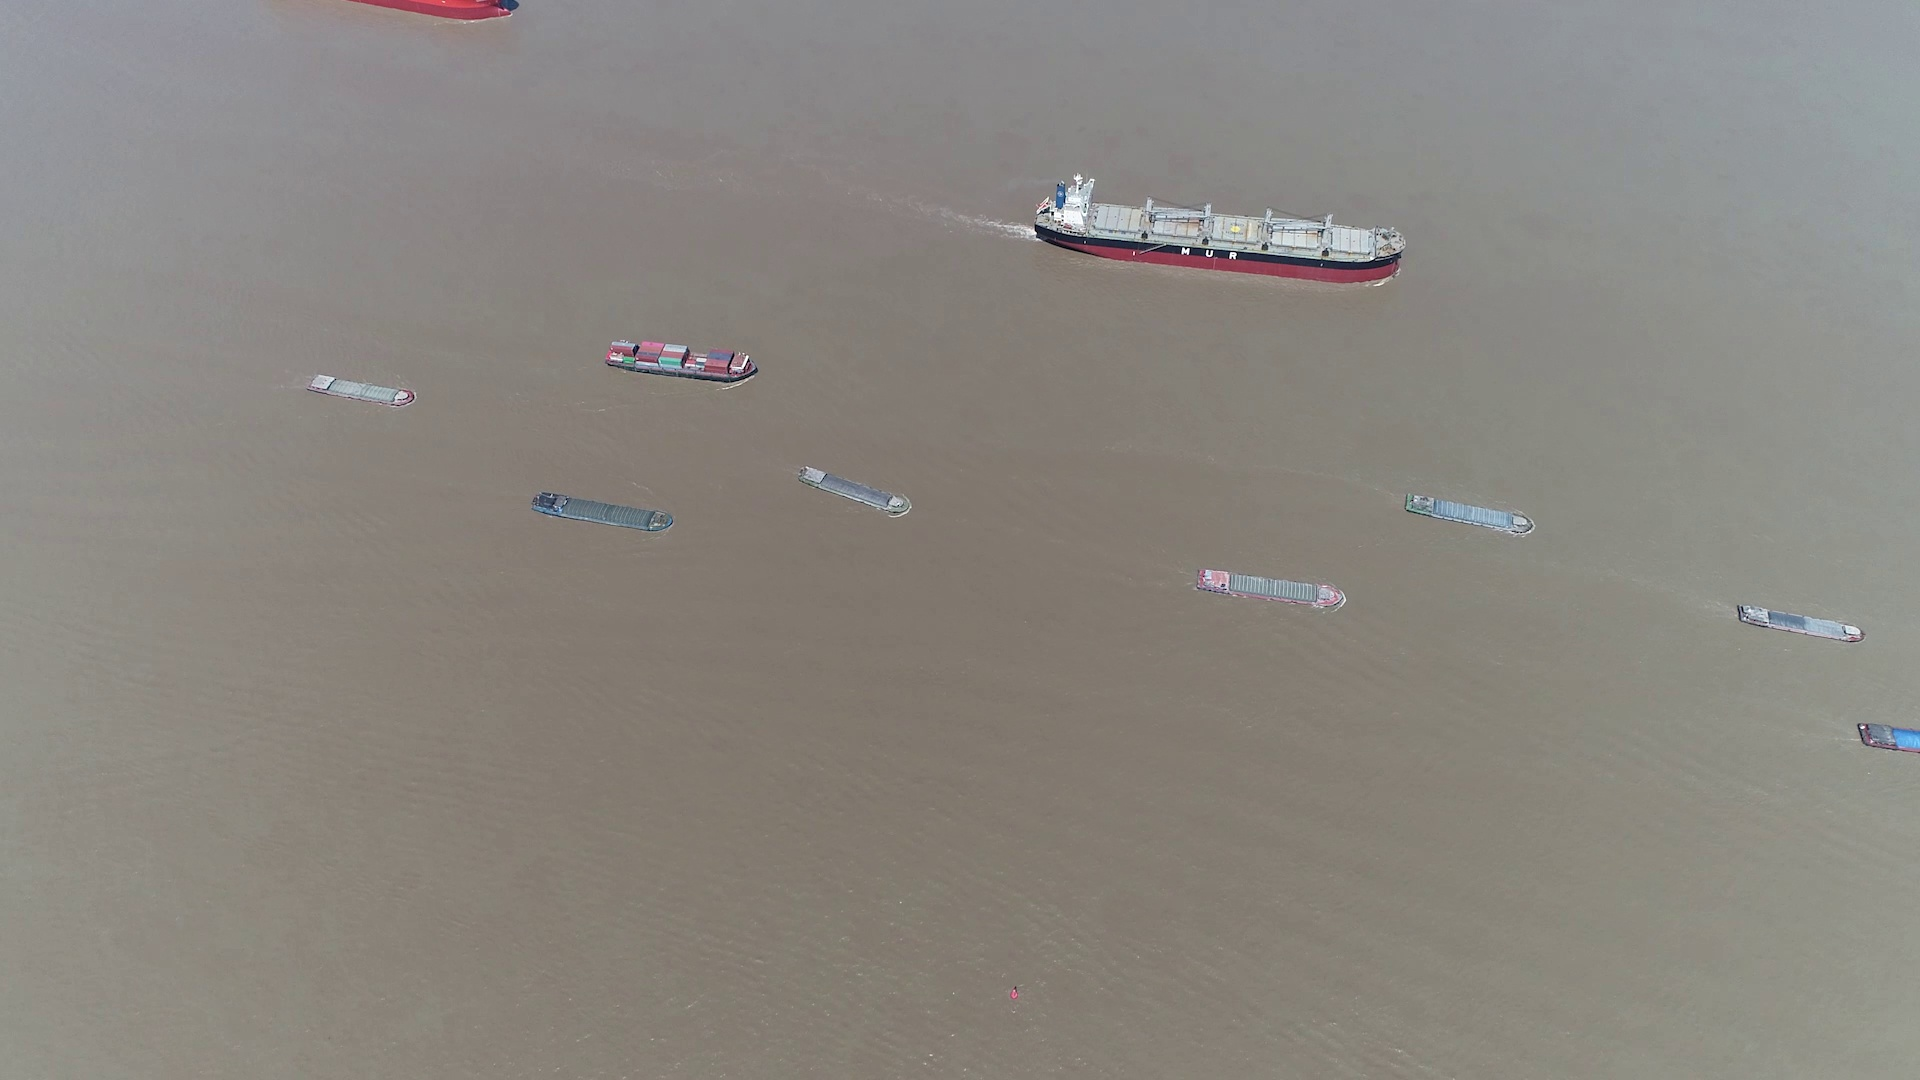ship: (1039, 182, 1403, 284), (607, 338, 760, 382), (531, 492, 675, 535), (1197, 567, 1346, 608), (799, 467, 913, 518), (1403, 493, 1534, 537), (1735, 603, 1869, 644), (309, 372, 415, 407), (1857, 720, 1919, 754)
